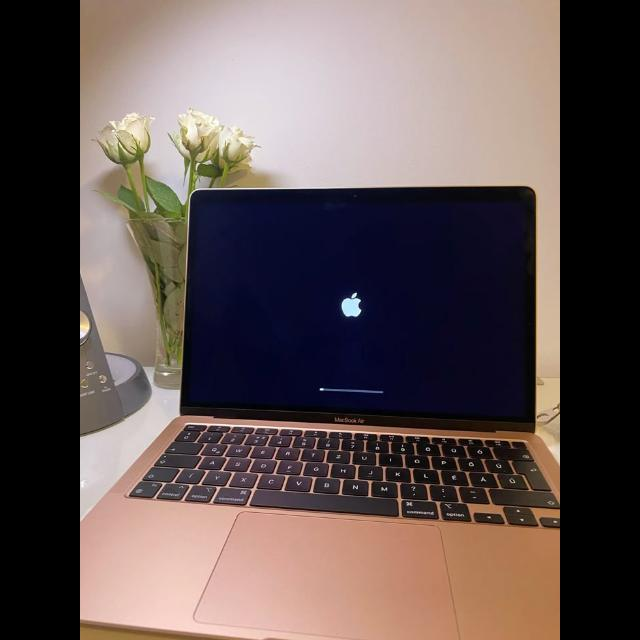laptop: (80, 186, 560, 639)
